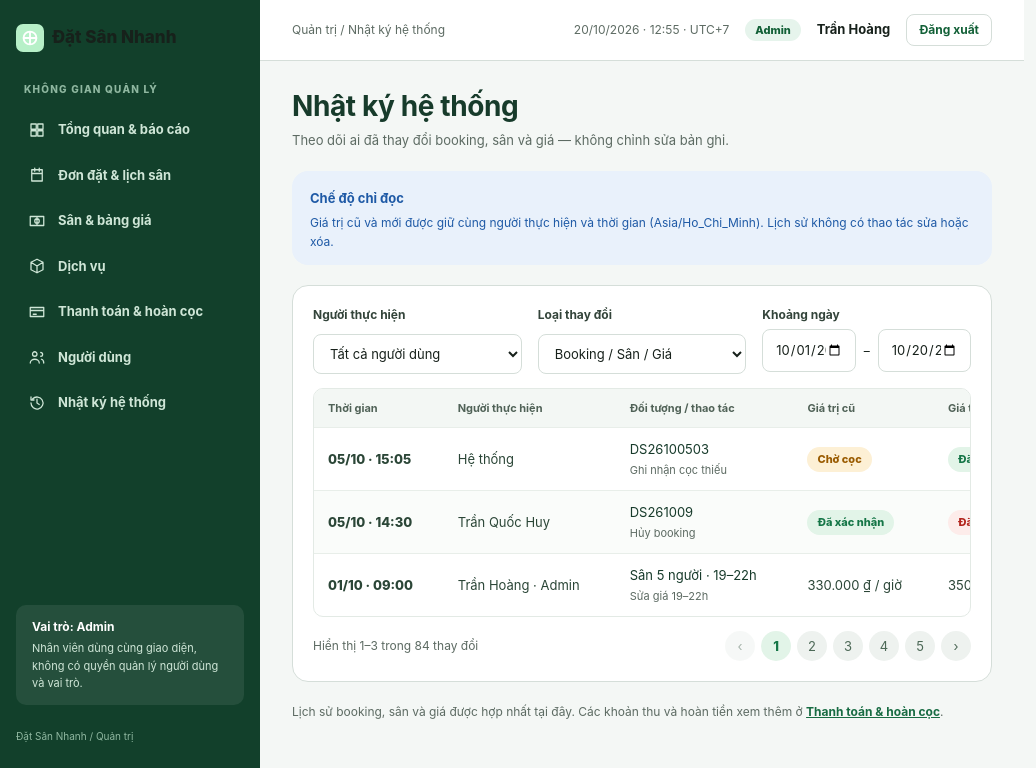
AdminSystemLogsPage › bấm số trang chuyển trang và cập nhật dòng "Hiển thị"
The width and height of the screenshot is (1036, 768).
Expected: the text "DS26100503" is shown, [630,441,709,457]
Click the button named "Trang 2" at (812, 646), box [797,631,827,661]
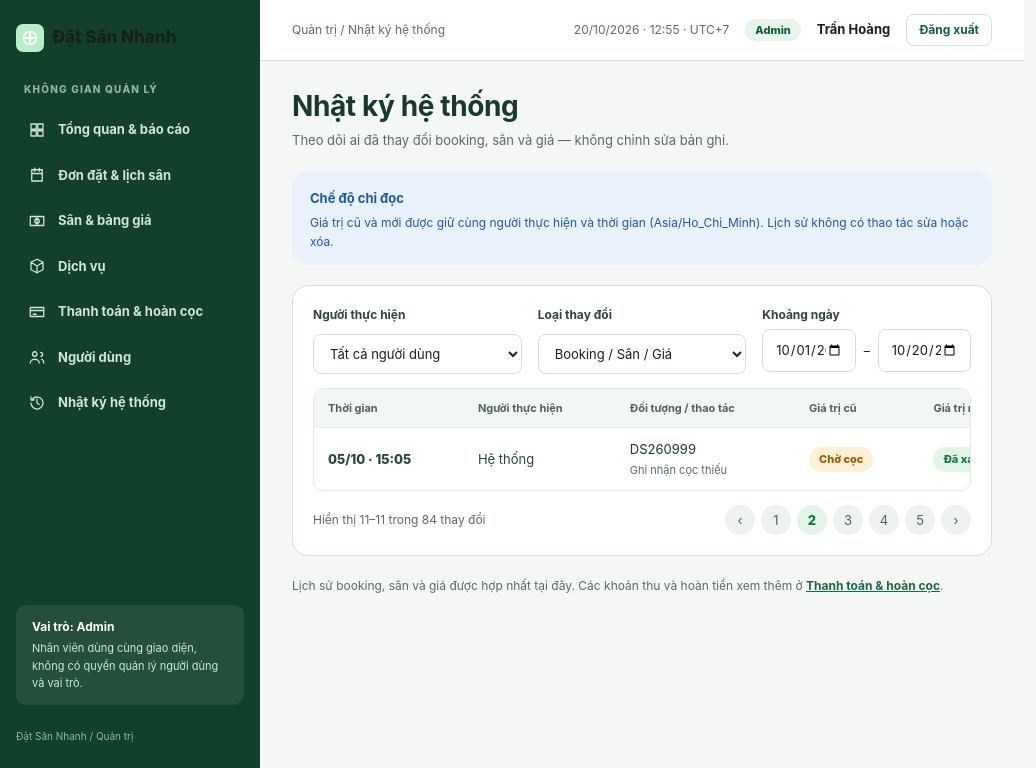
Now the text "DS260999" is shown, box [630,441,696,457]
Now the text "Hiển thị 11–11 trong 84 thay đổi" is shown, box [313,511,486,529]
